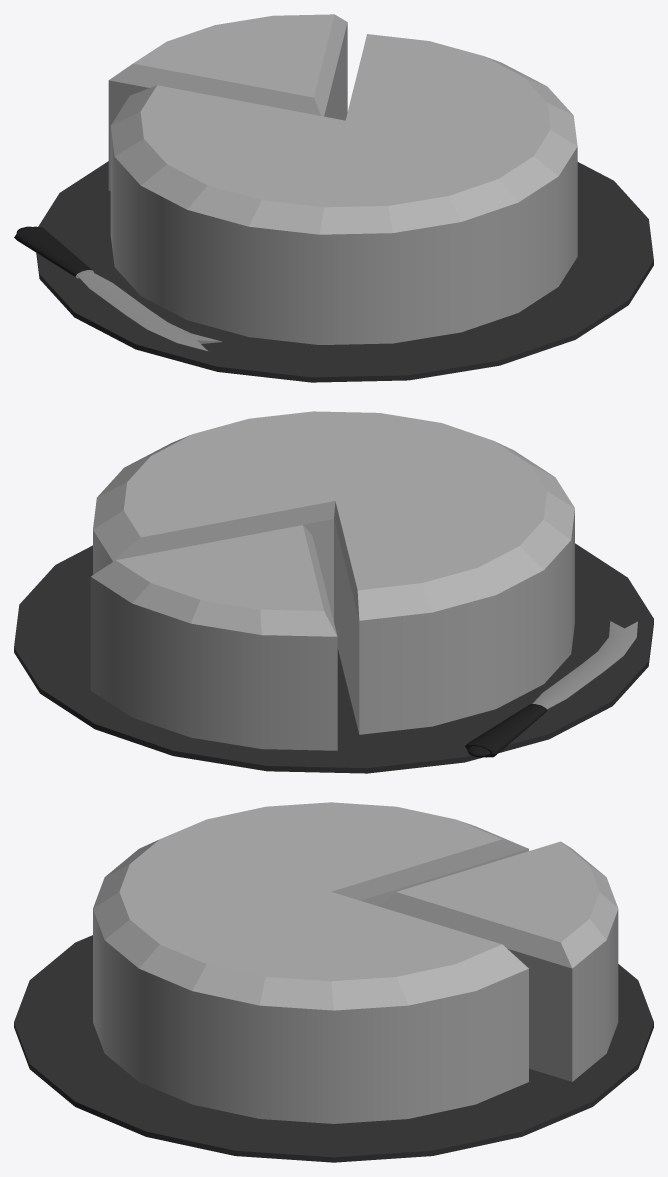
The model's file is CheeseWheelModel.fbx.
The picture shows the model from 3 angles, top to bottom: view 1: azimuth 30°, elevation 25°; view 2: azimuth 150°, elevation 25°; view 3: azimuth 270°, elevation 25°; orthographic projection. The views are drawn at different scales.
Visible parts, largest first — view 1: CheeseWheelModel; view 2: CheeseWheelModel; view 3: CheeseWheelModel.
Boxes of the visible parts, left/top/right/bottom form: CheeseWheelModel: left=14, top=14, right=653, bottom=382; CheeseWheelModel: left=14, top=411, right=653, bottom=773; CheeseWheelModel: left=14, top=802, right=653, bottom=1162.
Size of the model in its own units: 65.3 by 15.27 by 65.3.
